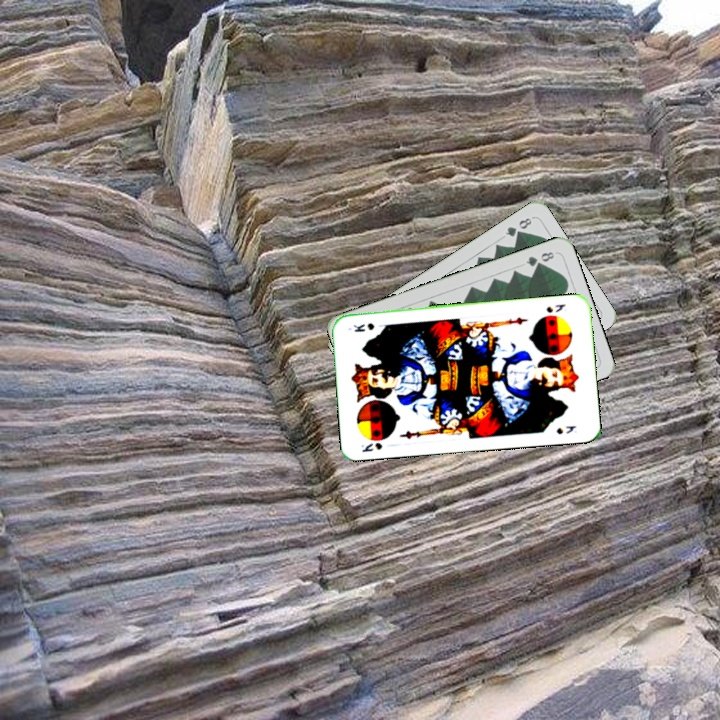G8: (501, 213, 536, 239), (522, 248, 559, 269)
SK: (357, 439, 385, 455), (542, 300, 568, 315)
